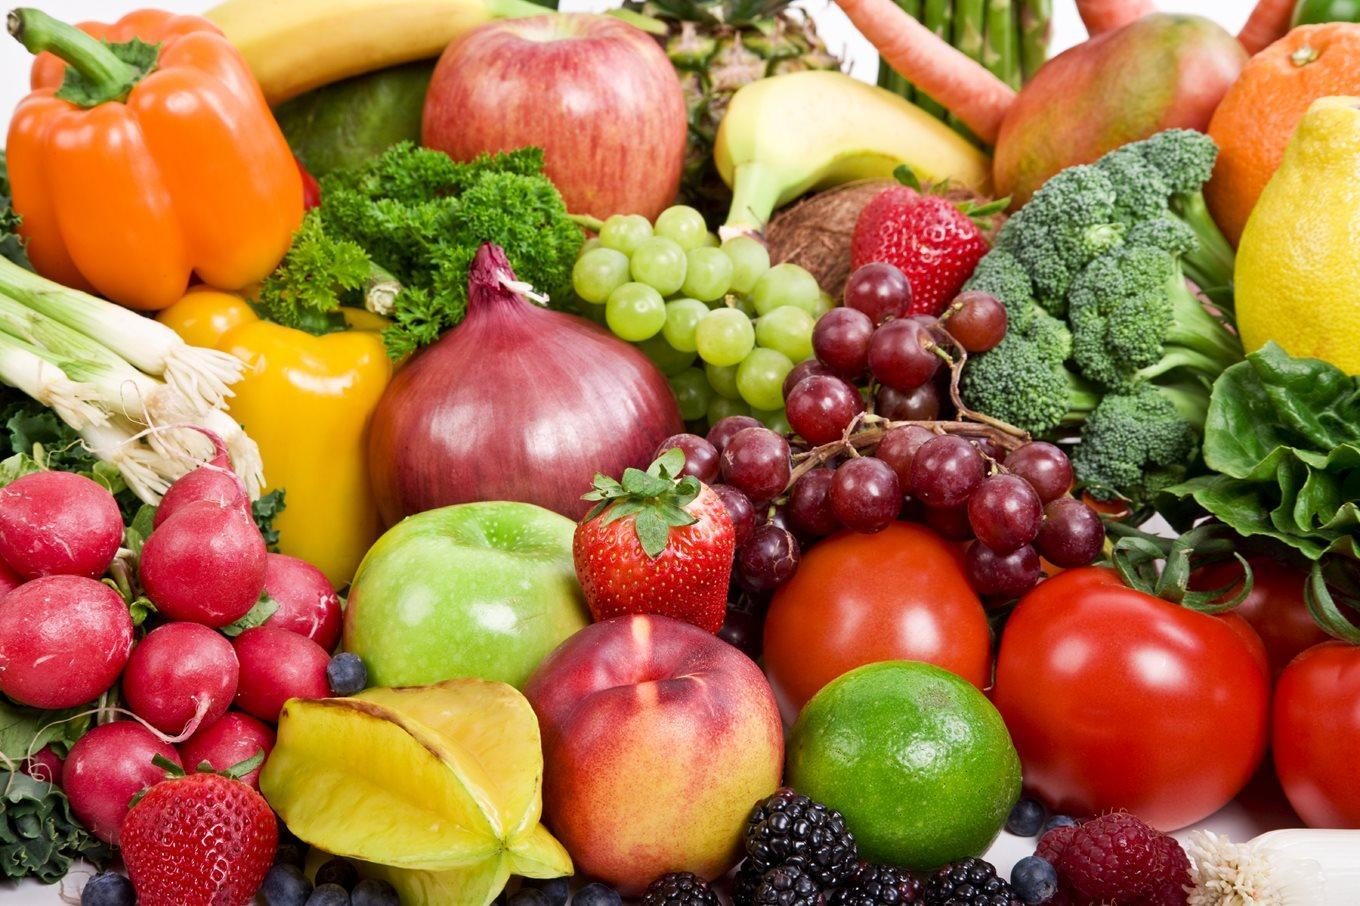apple: (423, 5, 692, 225), (339, 501, 597, 694)
